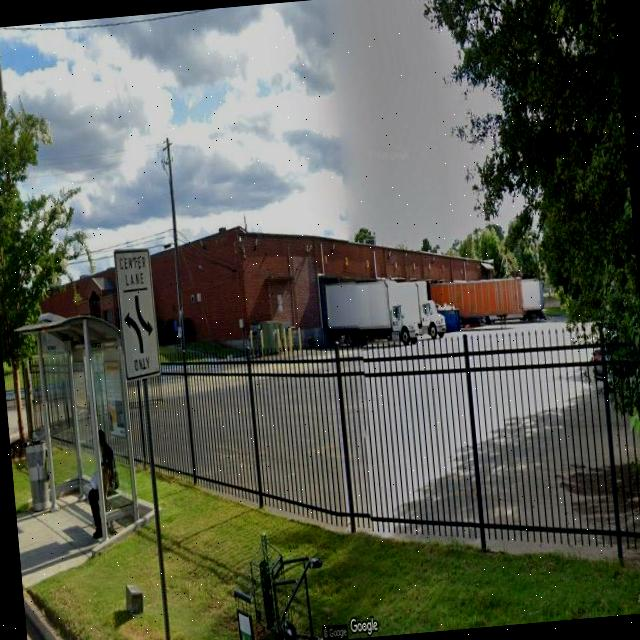seating: (82, 472, 125, 534)
shelter: (12, 310, 144, 538)
trash_can: (24, 438, 49, 514)
